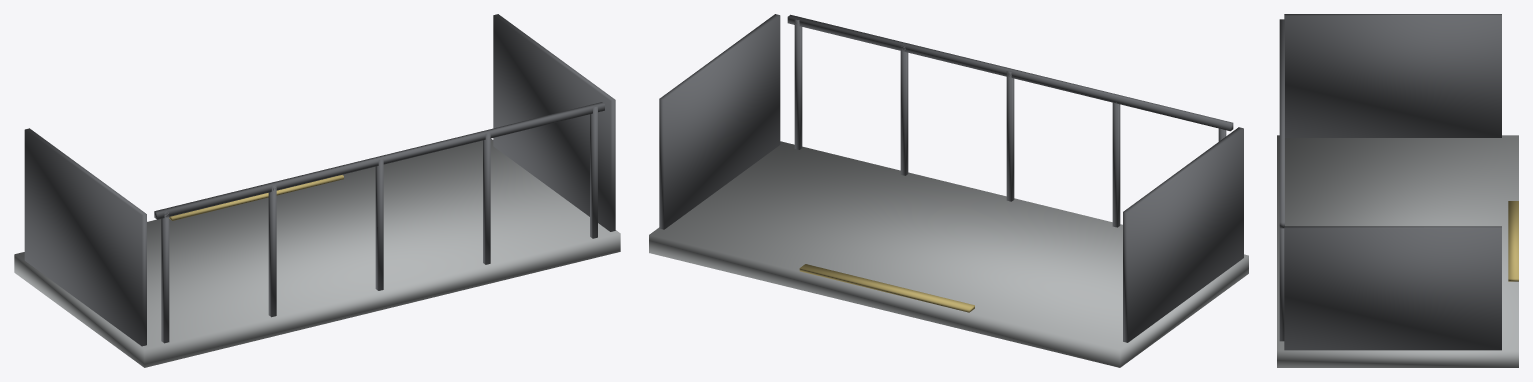
The model's file is steel_w380_d180_door.glb.
3 renders of one model, left to right at view 1: azimuth 30°, elevation 25°; view 2: azimuth 150°, elevation 25°; view 3: azimuth 270°, elevation 25°, orthographic. The views are drawn at different scales.
Visible parts, largest first — view 1: world; view 2: world; view 3: world.
Part boxes in pixels (box(x1,y1,x2,y2)): world: box(14, 14, 620, 367); world: box(649, 14, 1248, 367); world: box(1277, 14, 1518, 367).
Bounding box in the file's own units: 3.8 × 1.14 × 1.8.
